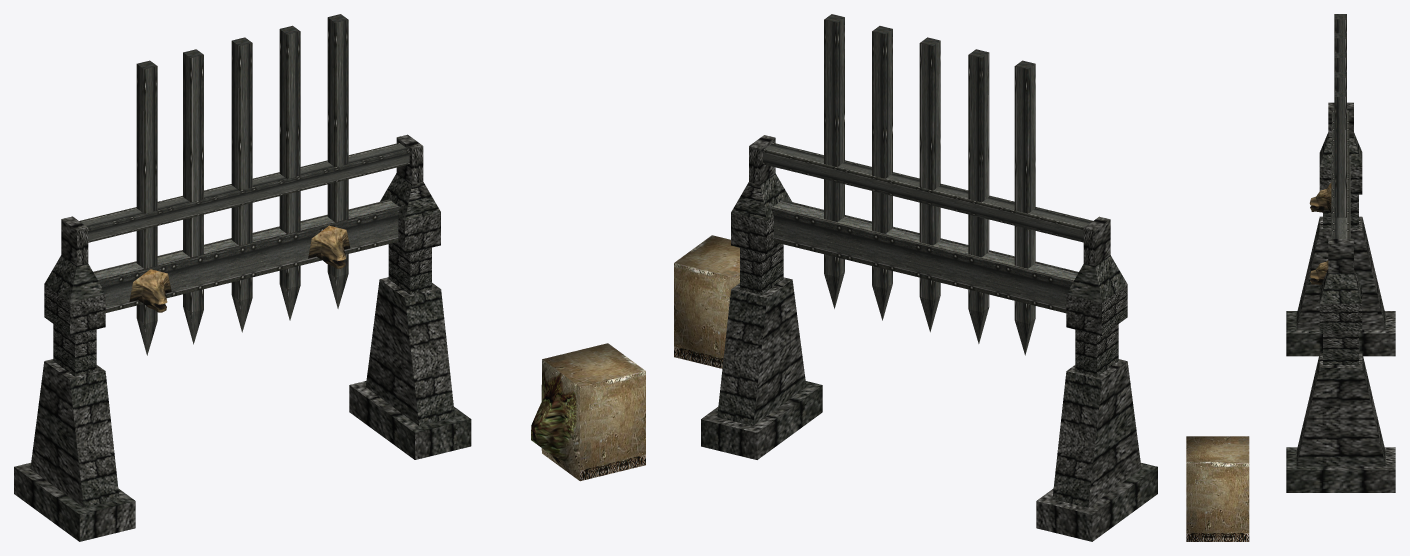
File: bingfengrukou_001.FBX
The picture shows the model from 3 angles, left to right: view 1: azimuth 30°, elevation 25°; view 2: azimuth 150°, elevation 25°; view 3: azimuth 270°, elevation 25°; orthographic projection. The views are drawn at different scales.
Parts seen in each view (by area): view 1: bingfengrukou_001, Object008; view 2: bingfengrukou_001, Object008; view 3: bingfengrukou_001, Object008.
Boxes of the visible parts, x1,y1,x2,y2 form: bingfengrukou_001: (14, 14, 471, 541); Object008: (531, 343, 645, 481); bingfengrukou_001: (701, 14, 1157, 541); Object008: (674, 235, 739, 368); bingfengrukou_001: (1286, 14, 1395, 492); Object008: (1186, 436, 1249, 541).
Bounding box in the file's own units: 770 × 627 × 331.
